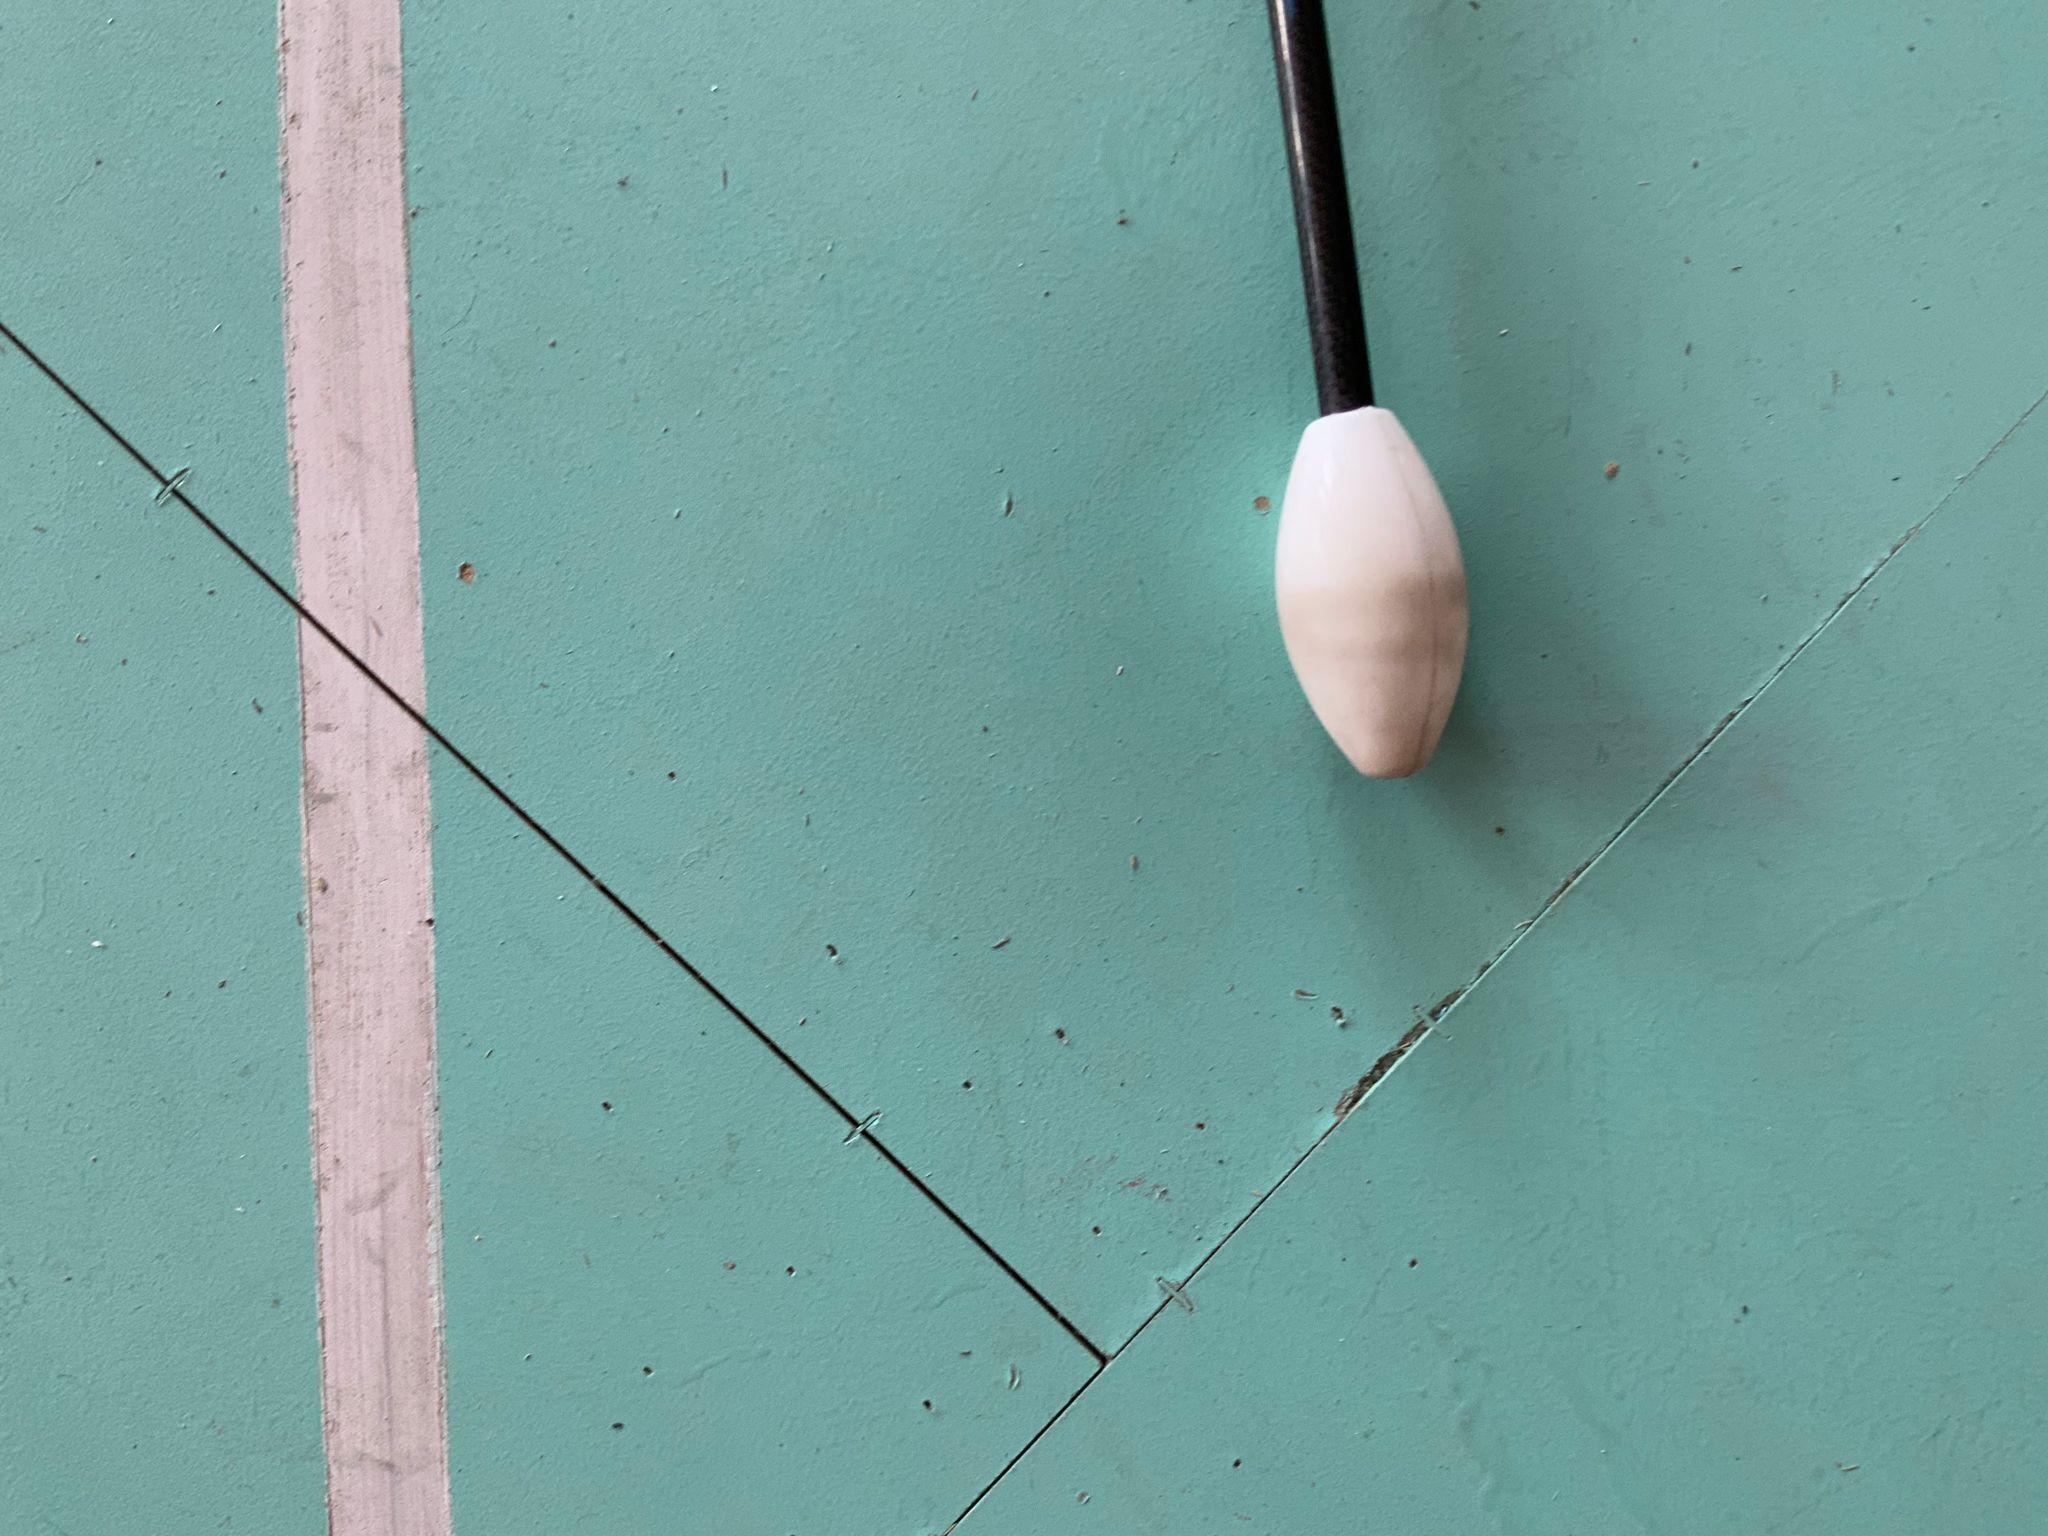arrowFront: (1271, 399, 1472, 786)
